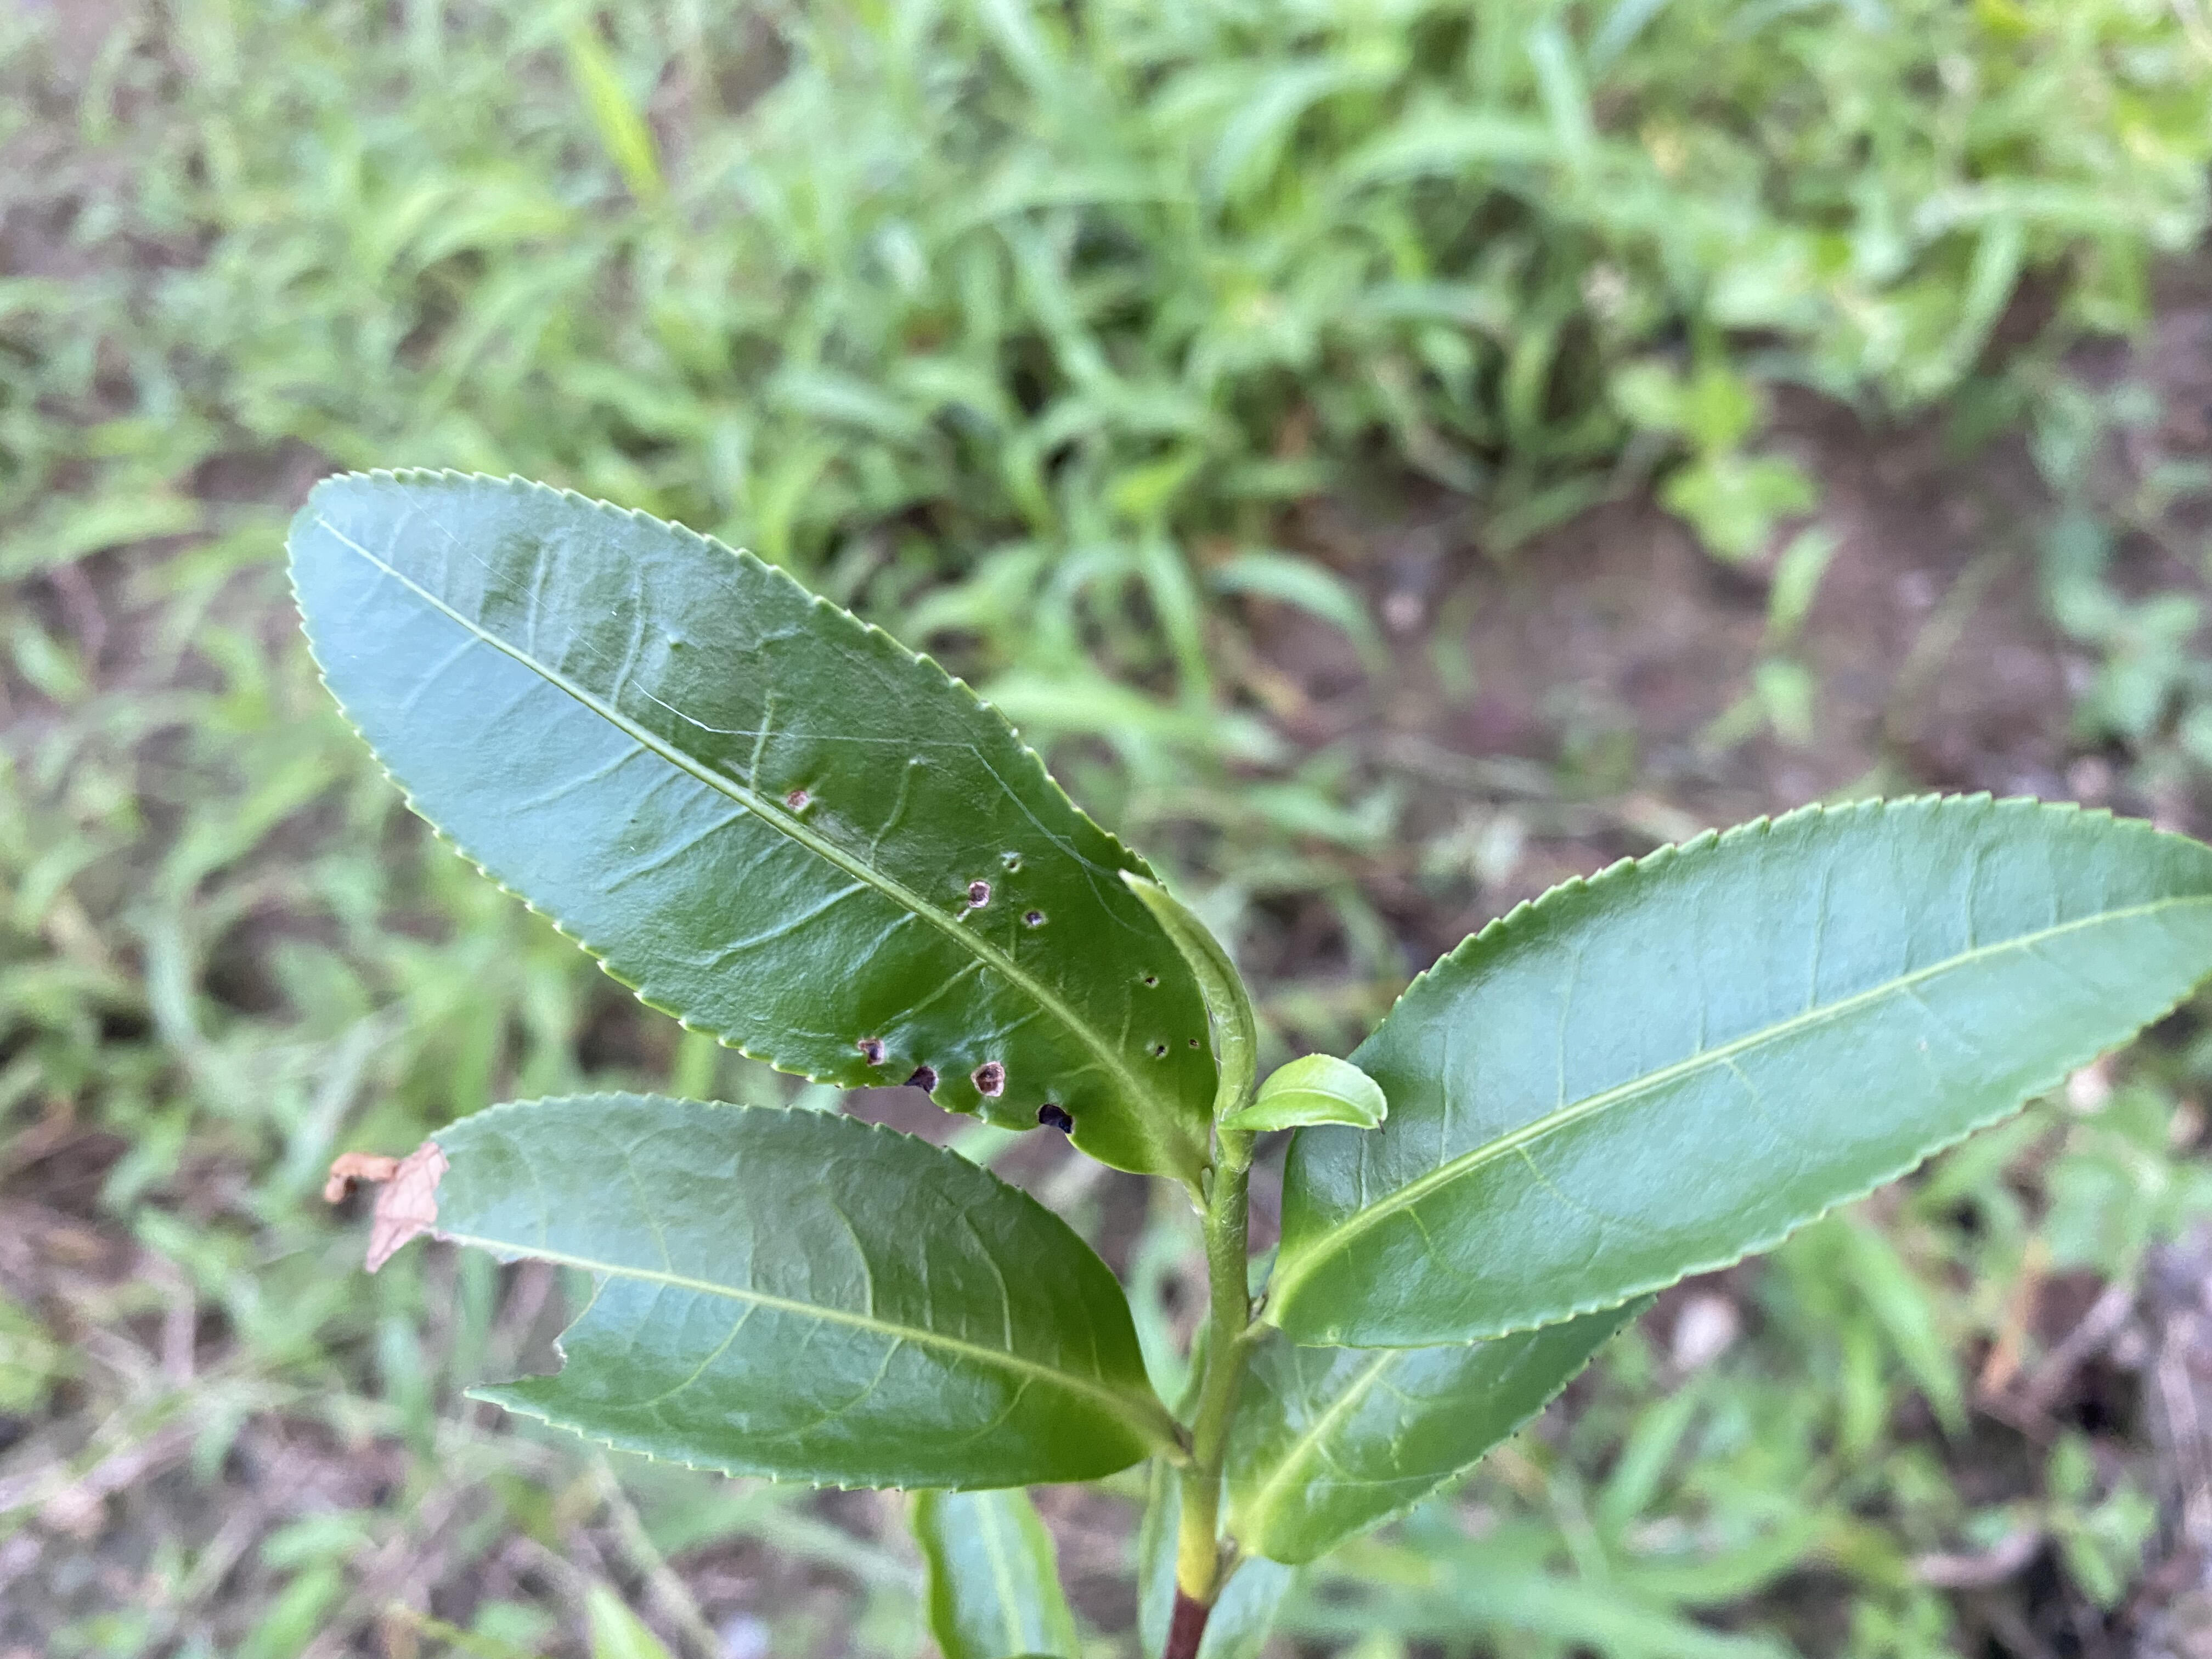healthy: (1261, 791, 2210, 1356)
tanju_low: (286, 469, 1230, 1180)
